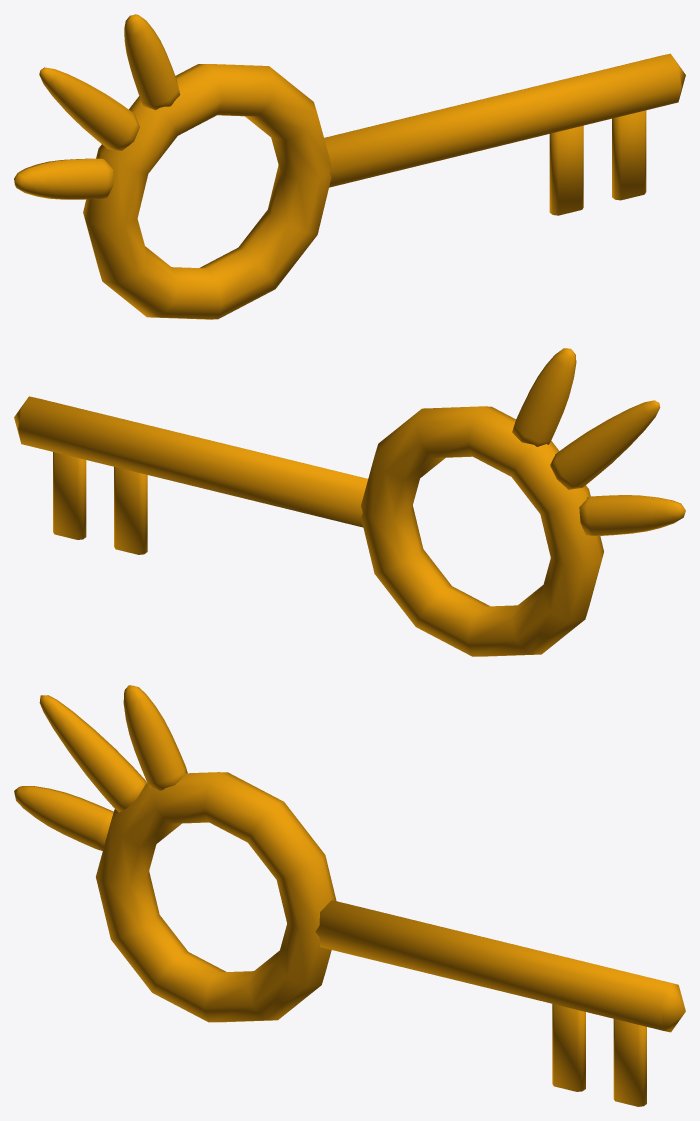
The model's file is Llavejolota.fbx.
The picture shows the model from 3 angles, top to bottom: view 1: azimuth 30°, elevation 25°; view 2: azimuth 150°, elevation 25°; view 3: azimuth 330°, elevation 25°; orthographic projection. The views are drawn at different scales.
Parts seen in each view (by area): view 1: Torus; view 2: Torus; view 3: Torus.
Boxes of the visible parts, x1,y1,x2,y2 form: Torus: (14, 14, 685, 319); Torus: (14, 348, 685, 656); Torus: (14, 685, 685, 1106).
Size of the model in its own units: 695 by 322 by 50.
